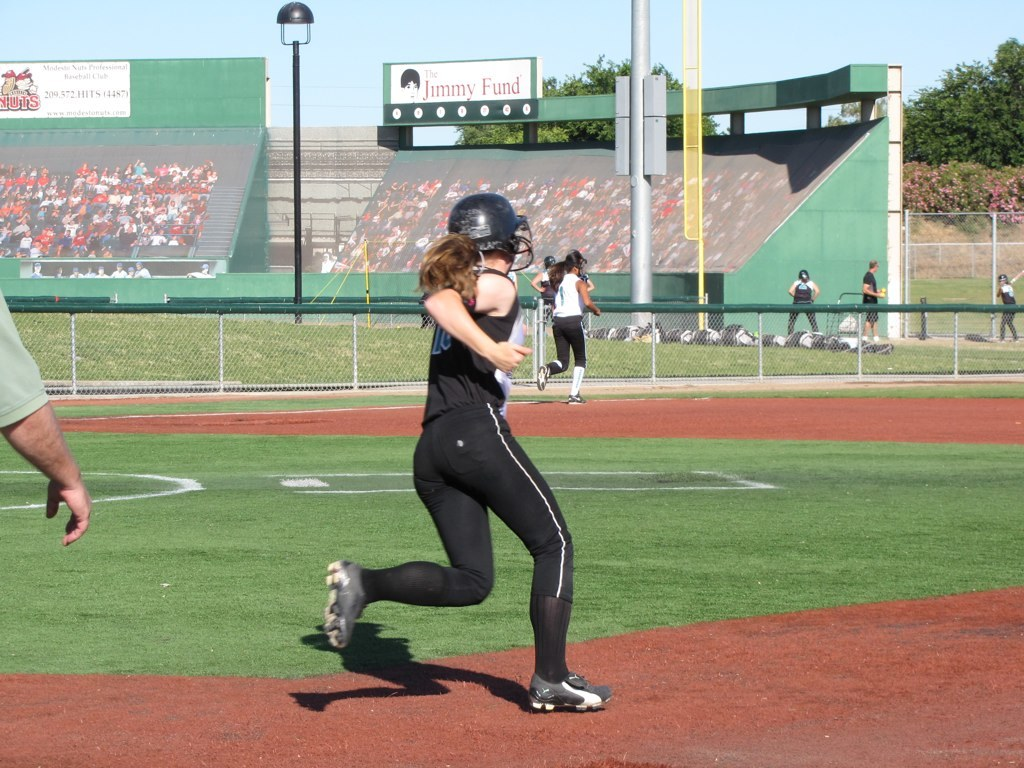Person: (862, 262, 886, 339), (789, 270, 818, 328), (994, 272, 1018, 336)
